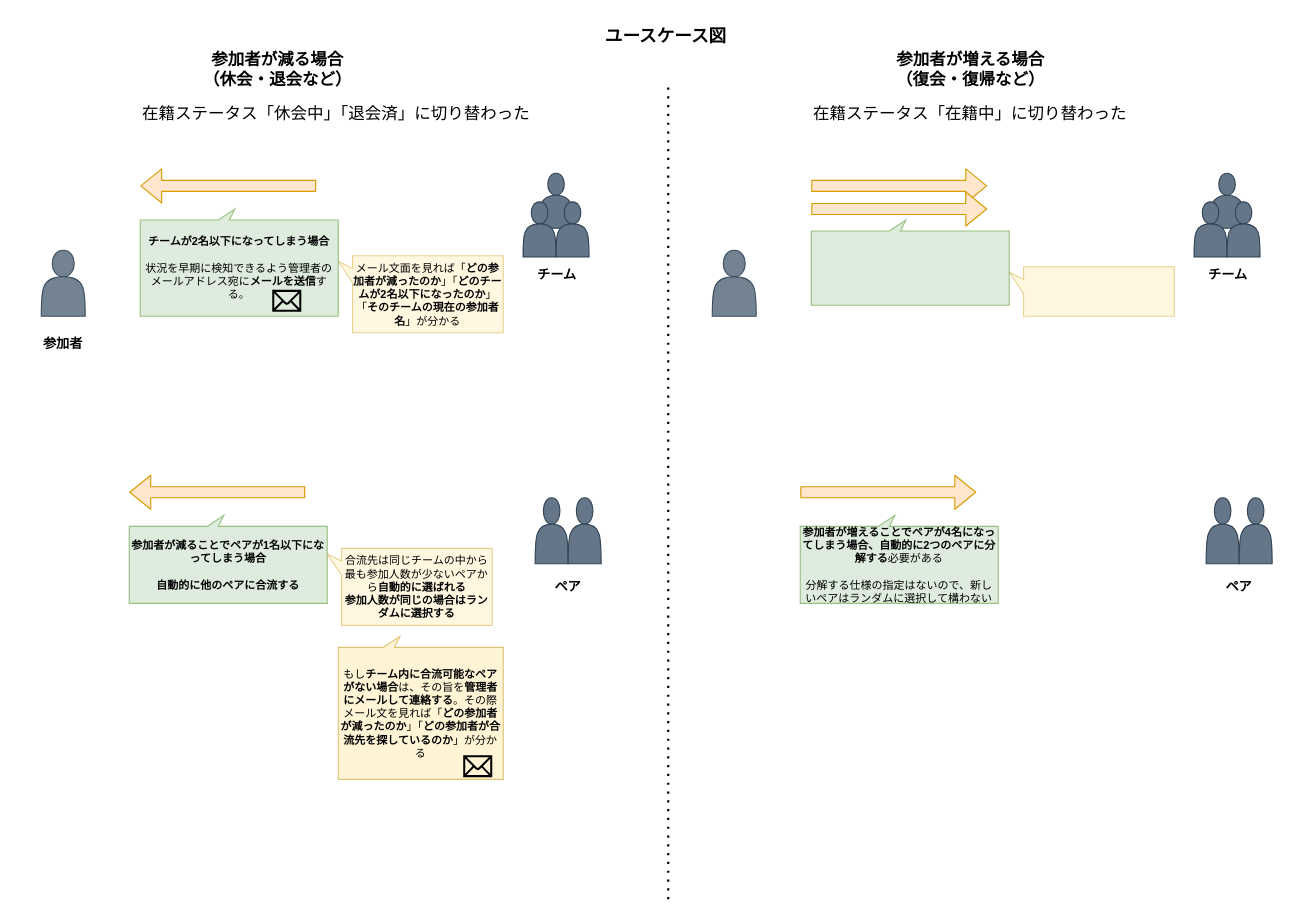
This 1301x920 diagram has some shape labels left out. Here are the shapes that lost their labels. From the top down, the centre of each, then its label:
At pixel 909 262: "所属するチームとペアは、最も参加人数が少ないチームの中で、 最も参加人数が少ないペアから自動的に選ばれる".
At pixel 1091 291: "参加人数が同じの場合はランダムに選択する".
